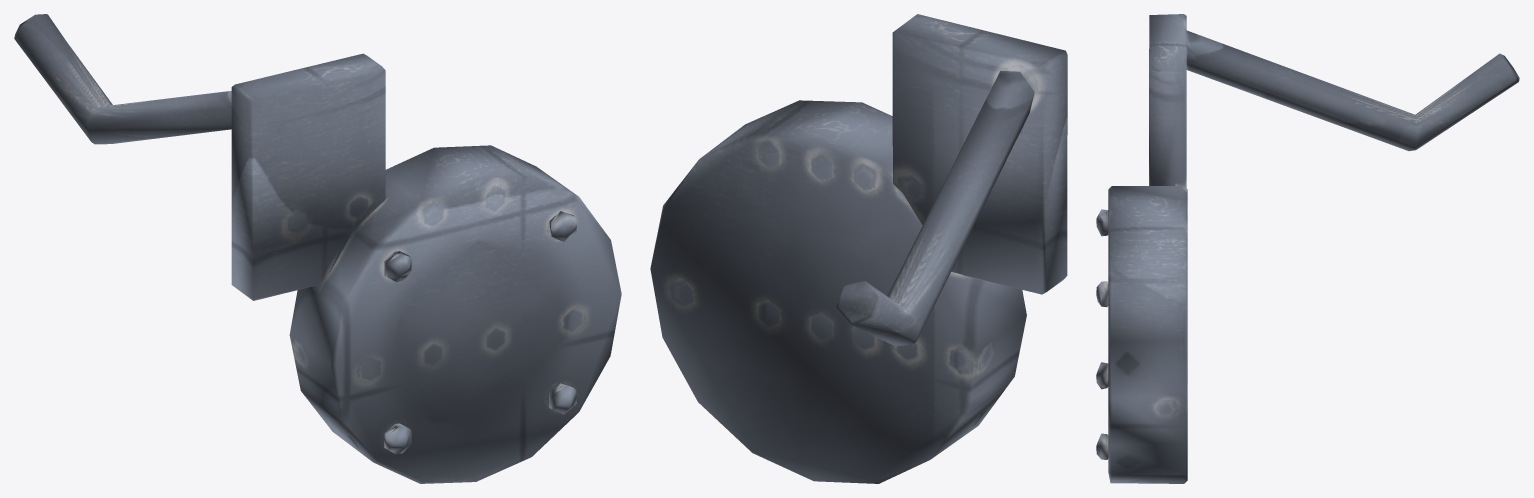
The model's file is MatonImp_Ojo.fbx.
The picture shows the model from 3 angles, left to right: view 1: azimuth 30°, elevation 25°; view 2: azimuth 150°, elevation 25°; view 3: azimuth 270°, elevation 25°; orthographic projection. The views are drawn at different scales.
Visible parts, largest first — view 1: MatonImp_Ojo; view 2: MatonImp_Ojo; view 3: MatonImp_Ojo.
Boxes of the visible parts, bbox=[...] form: MatonImp_Ojo: bbox=[14, 14, 621, 483]; MatonImp_Ojo: bbox=[650, 14, 1067, 483]; MatonImp_Ojo: bbox=[1096, 14, 1519, 483].
Bounding box in the file's own units: 0.7036 × 0.7321 × 0.7606.
